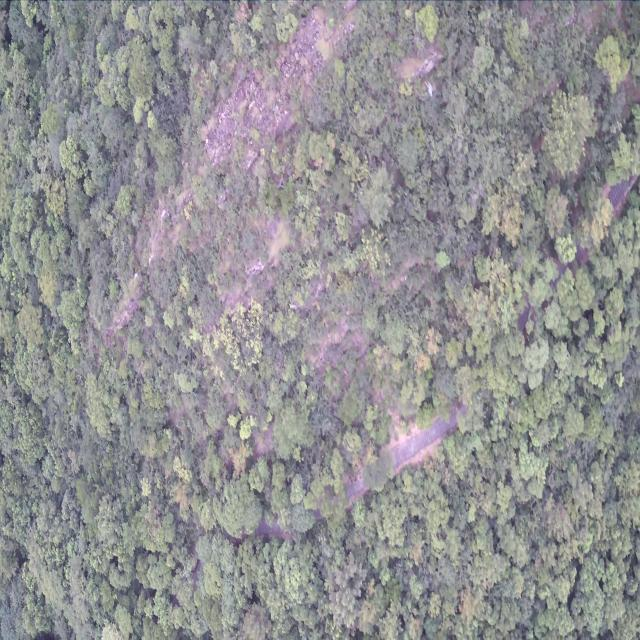UAV: (424, 80, 437, 100)
